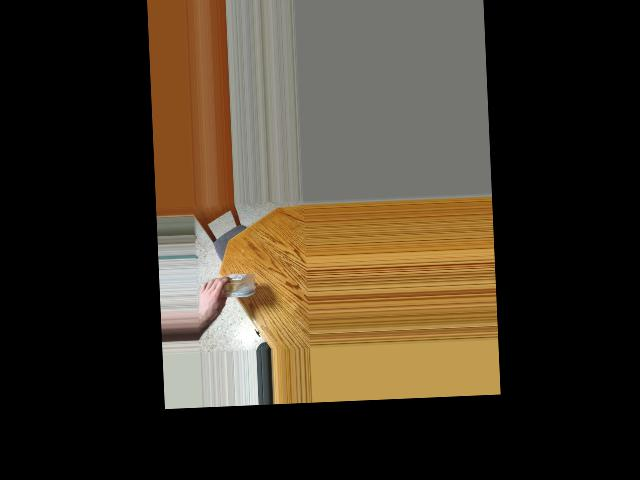cheese: (206, 265, 253, 306)
